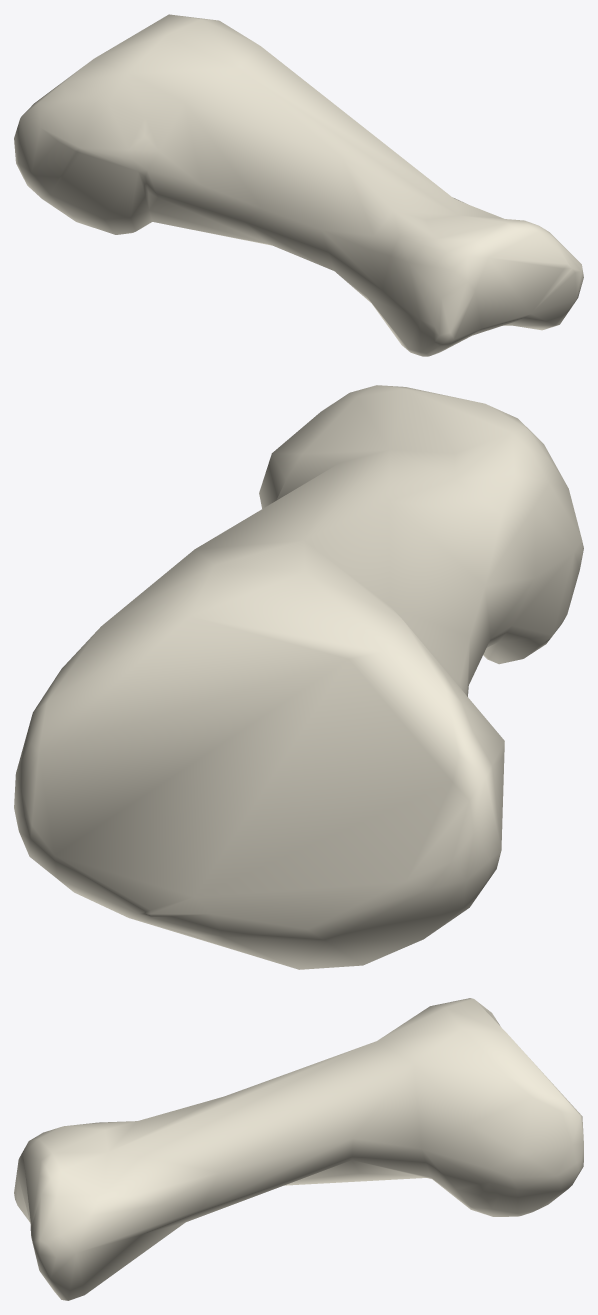
The picture shows the model from 3 angles, top to bottom: view 1: azimuth 30°, elevation 25°; view 2: azimuth 150°, elevation 25°; view 3: azimuth 270°, elevation 25°; orthographic projection. The views are drawn at different scales.
Visible parts, largest first — view 1: ZA_c64cb1b7ece01a54; view 2: ZA_c64cb1b7ece01a54; view 3: ZA_c64cb1b7ece01a54.
Boxes of the visible parts, bbox=[...] form: ZA_c64cb1b7ece01a54: bbox=[14, 14, 583, 356]; ZA_c64cb1b7ece01a54: bbox=[14, 385, 583, 969]; ZA_c64cb1b7ece01a54: bbox=[14, 998, 583, 1300].
Bounding box in the file's own units: 0.0183 × 0.0104 × 0.0268.
